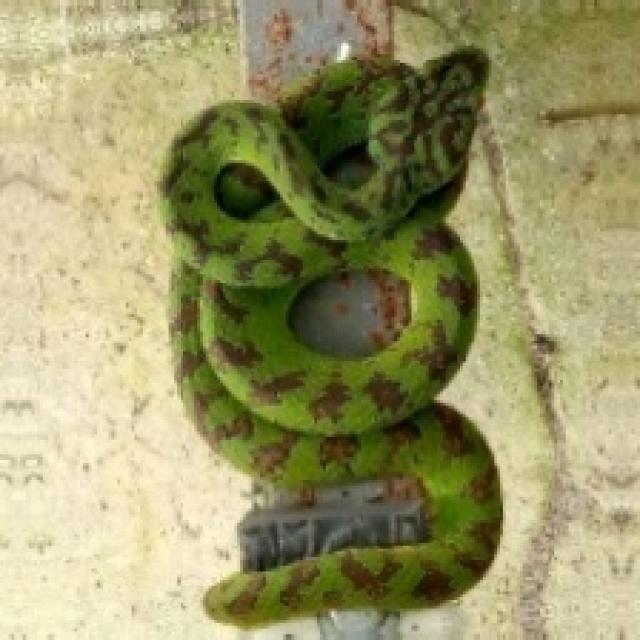philippine pitviper: (163, 49, 500, 626)
